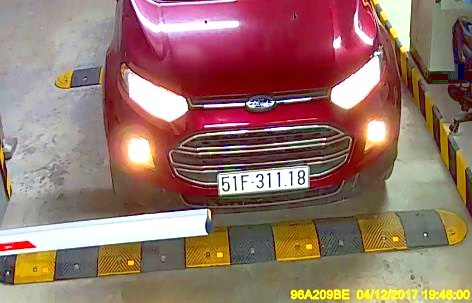plate: (215, 164, 309, 194)
